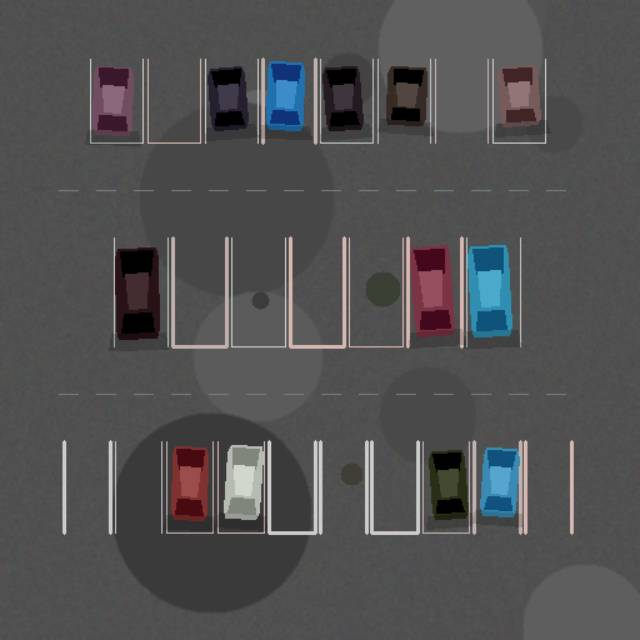space-empty: (172, 238, 226, 346), (231, 238, 285, 346), (290, 238, 344, 346), (349, 238, 402, 346), (147, 59, 200, 143), (435, 59, 487, 143), (371, 441, 418, 532), (64, 441, 110, 532), (115, 441, 161, 532), (269, 441, 315, 532), (320, 441, 366, 532), (525, 441, 571, 532)
space-occupied: (114, 238, 168, 346), (466, 238, 520, 346), (408, 238, 461, 346), (90, 59, 143, 143), (320, 59, 373, 143), (377, 59, 430, 143), (205, 59, 257, 143), (263, 59, 315, 143), (493, 59, 545, 143), (422, 441, 469, 532), (166, 441, 212, 532), (218, 441, 264, 532), (474, 441, 520, 532)
